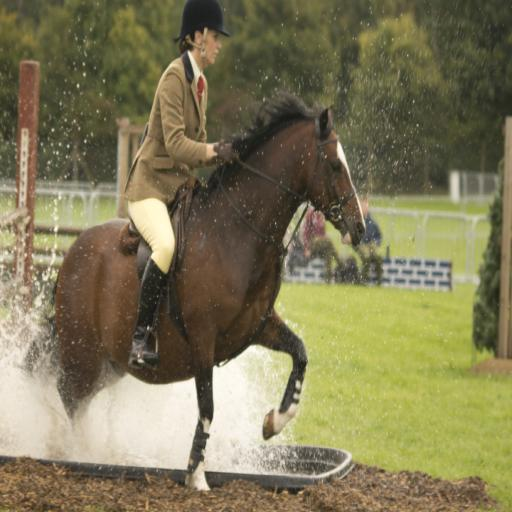Horse: (21, 88, 365, 492)
